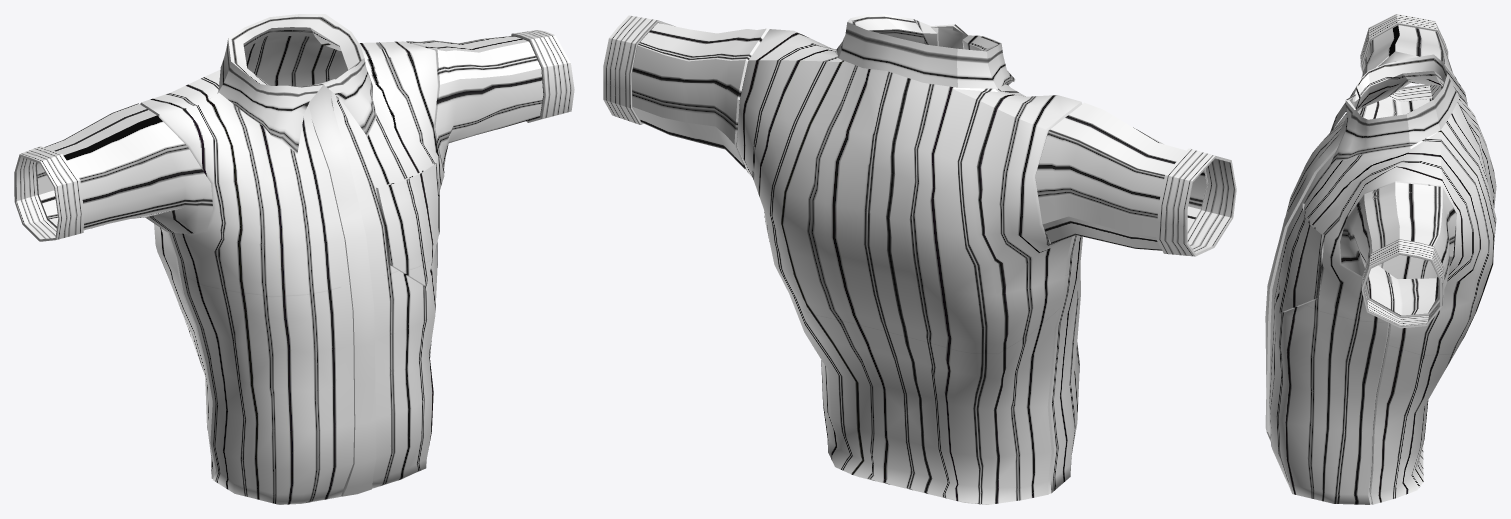
3 renders of one model, left to right at view 1: azimuth 30°, elevation 25°; view 2: azimuth 150°, elevation 25°; view 3: azimuth 270°, elevation 25°, orthographic. The views are drawn at different scales.
Parts seen in each view (by area): view 1: up; view 2: up; view 3: up.
Boxes of the visible parts, x1,y1,x2,y2 form: up: (14, 14, 574, 504); up: (603, 14, 1236, 504); up: (1265, 14, 1496, 504).
Size of the model in its own units: 3.58 by 2.76 by 1.47.
Materials: 1 (1 with a texture image).
